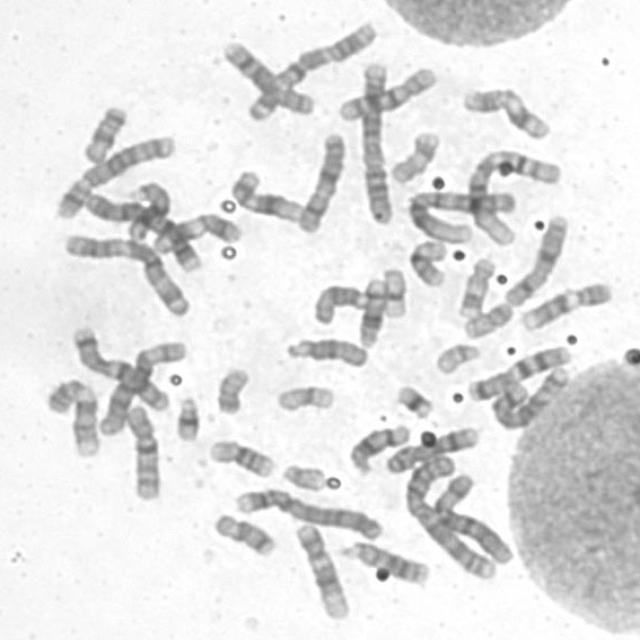A1: (460, 143, 566, 247), (403, 182, 521, 245)
A2: (398, 447, 503, 581), (352, 52, 396, 226)
A3: (240, 13, 380, 122), (57, 225, 194, 318)
B4: (76, 185, 206, 274), (228, 481, 386, 542)
B5: (48, 127, 178, 220), (484, 358, 572, 431)
C10: (332, 58, 439, 122), (117, 396, 165, 504)
C11: (456, 79, 554, 141), (147, 206, 244, 254)
C12: (289, 516, 352, 621), (225, 162, 307, 225)
C6: (92, 333, 190, 437), (424, 467, 517, 567)
C7: (65, 320, 172, 414), (461, 337, 574, 403)
C8: (217, 33, 319, 116), (378, 420, 482, 475)
C9: (513, 274, 615, 333), (39, 371, 105, 458)
D13: (333, 534, 432, 586), (121, 174, 174, 242)
D14: (342, 417, 413, 476), (352, 271, 391, 349)
D15: (280, 330, 371, 369), (307, 277, 373, 326)
E16: (202, 432, 278, 479), (402, 232, 451, 288)
E17: (382, 124, 442, 185), (451, 250, 498, 320)
E18: (74, 97, 131, 165), (206, 506, 278, 558)
F19: (268, 376, 338, 414), (375, 259, 411, 320)
F20: (457, 294, 516, 340), (213, 367, 252, 415)
G21: (389, 378, 437, 421), (168, 387, 202, 443)
G22: (428, 336, 483, 376), (276, 456, 328, 493)
X: (499, 207, 571, 308), (291, 125, 349, 235)
